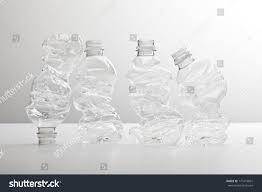Plastic bottle: (118, 31, 172, 143), (75, 35, 124, 150), (172, 42, 225, 146), (26, 30, 71, 145)
